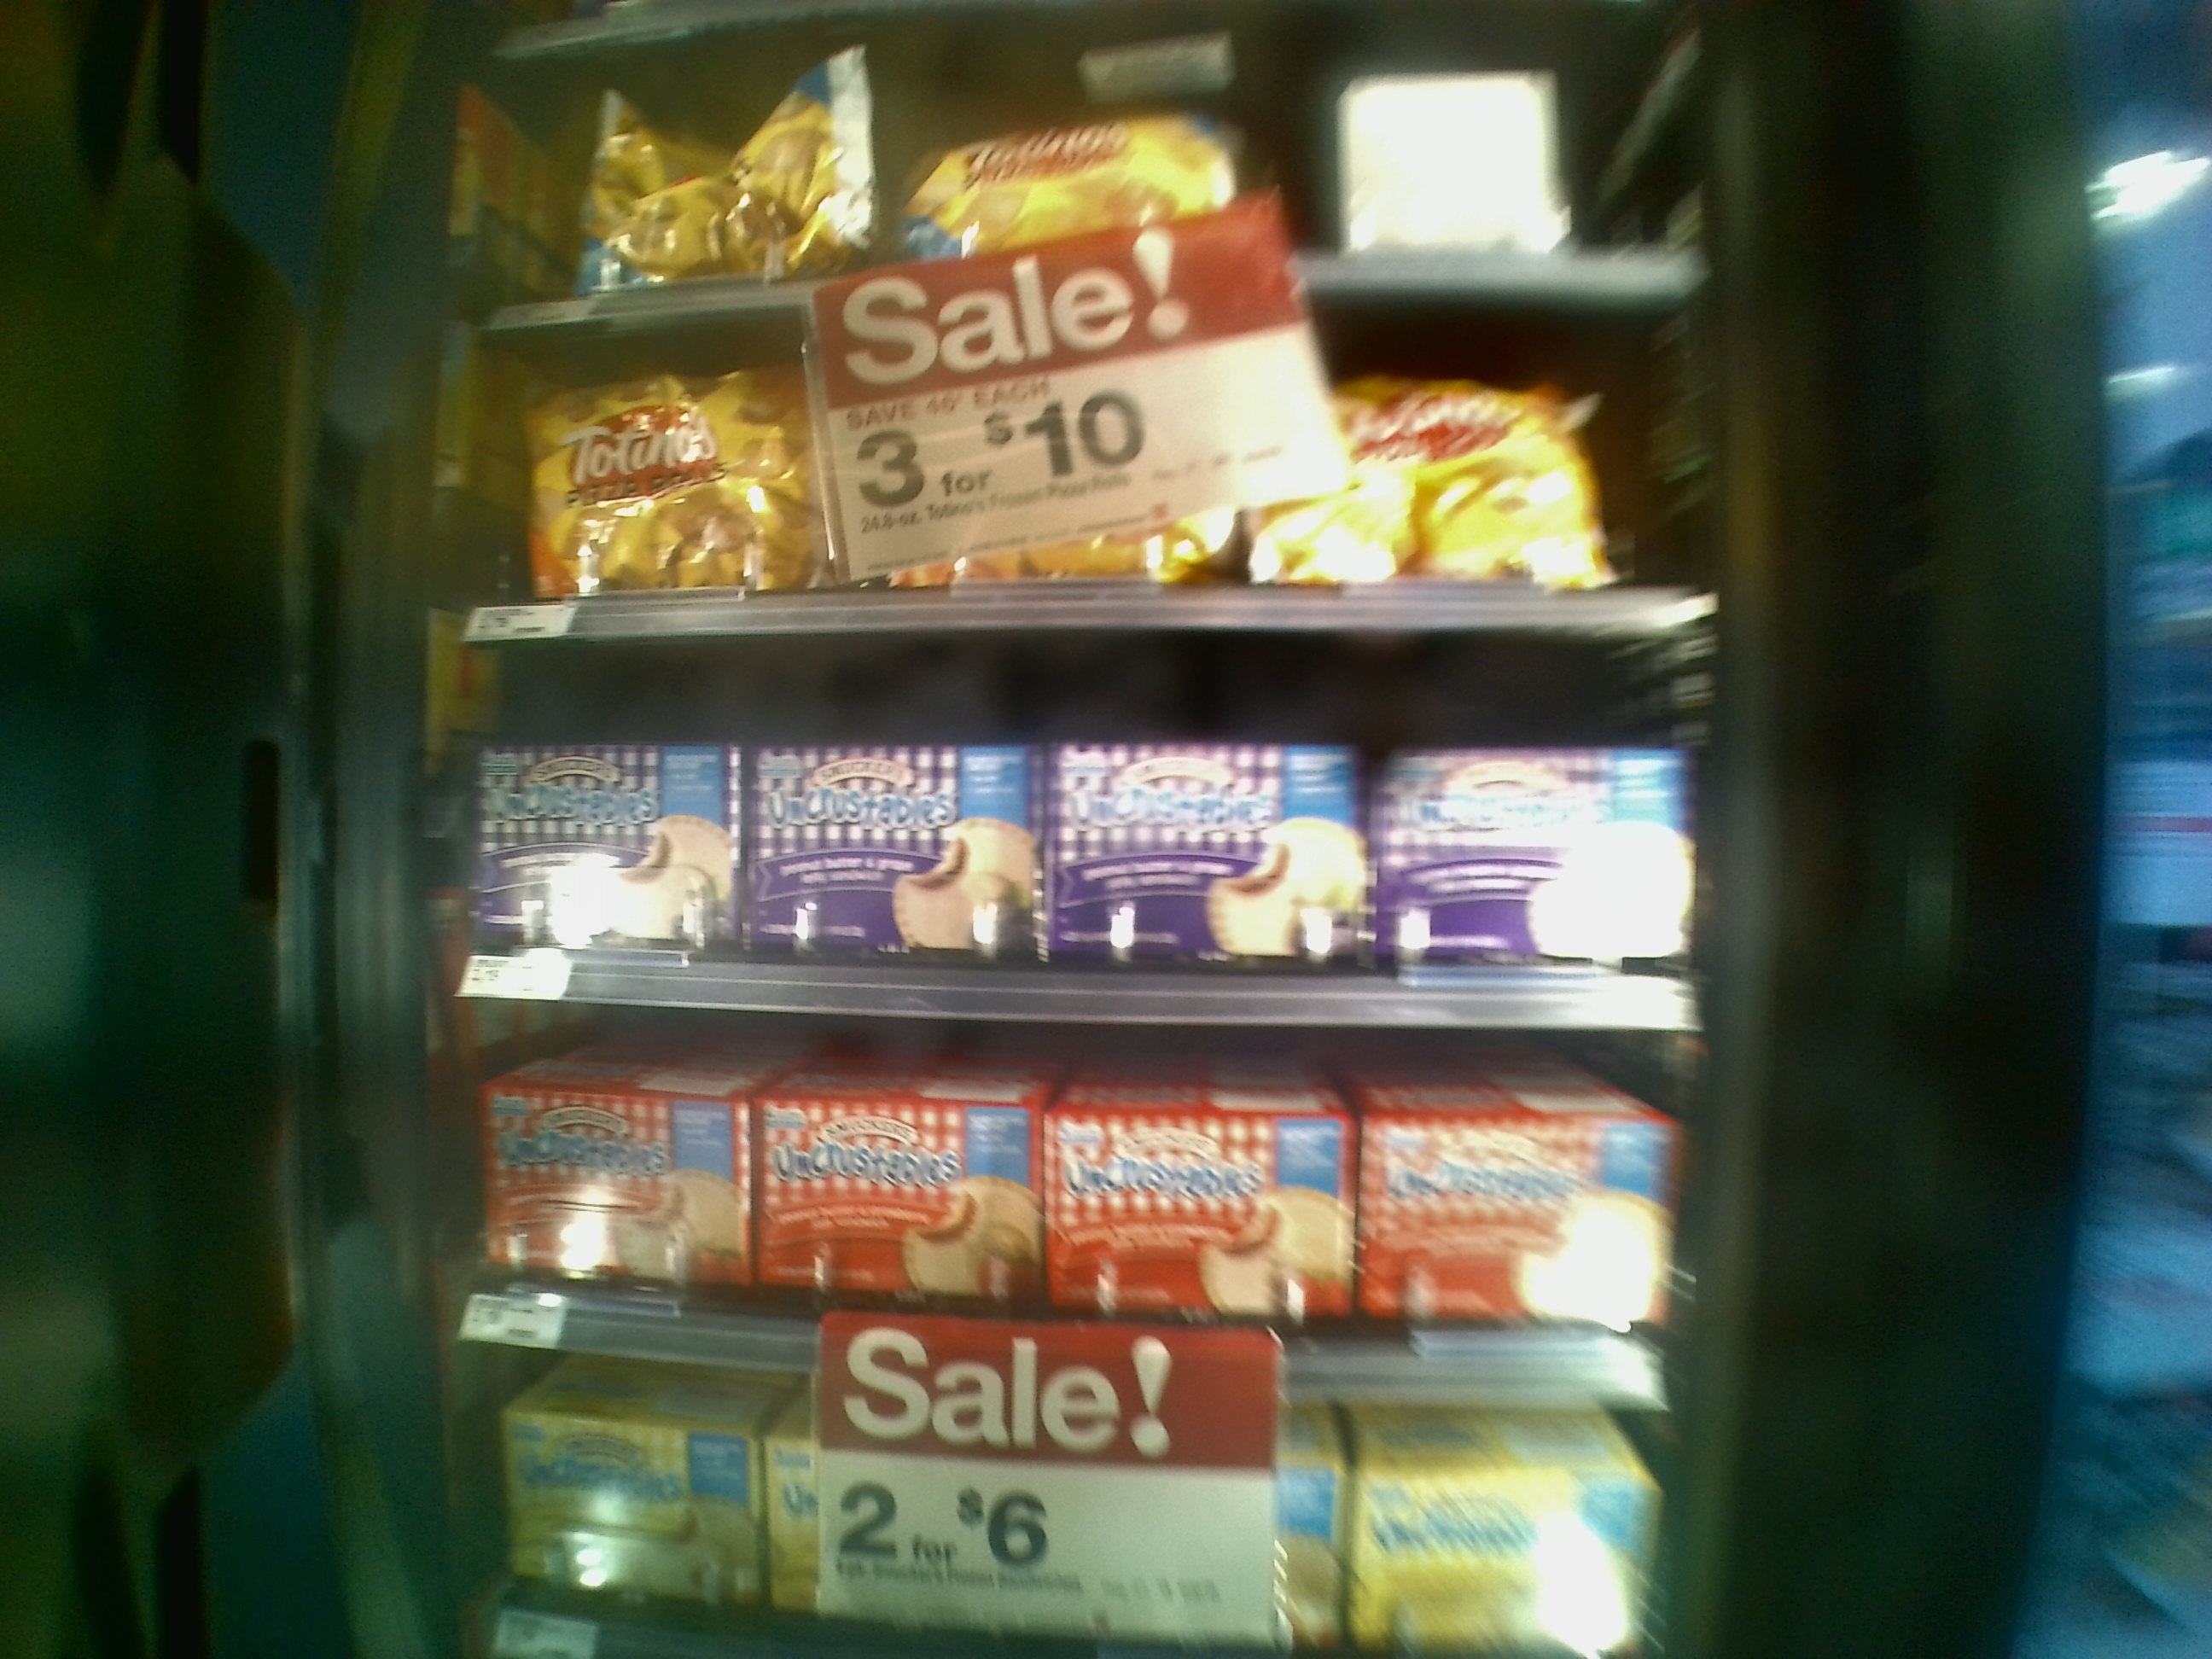shelf: (420, 638, 1710, 1039), (423, 1032, 1693, 1420), (427, 310, 1712, 636)
